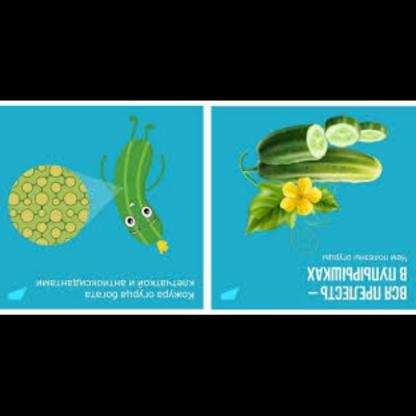cucumber: (249, 148, 382, 191), (246, 118, 334, 168), (320, 116, 390, 155)
